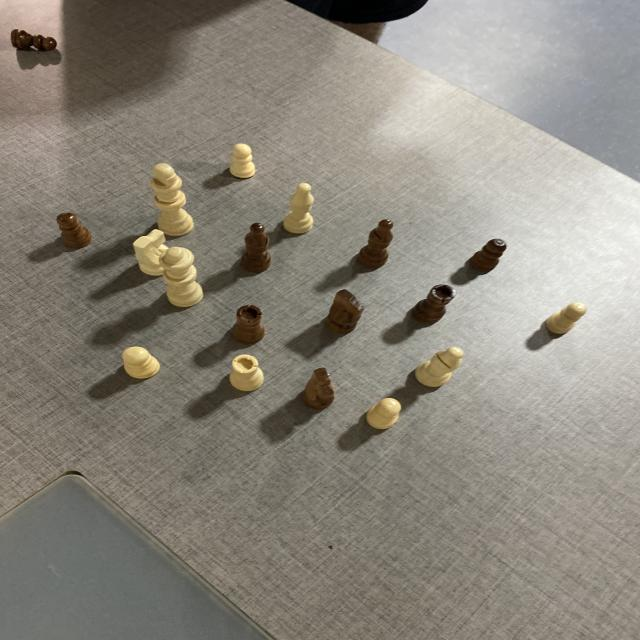Black-Bishop: (358, 219, 394, 270), (241, 222, 272, 273)
Black-Knight: (322, 289, 366, 334), (301, 366, 338, 411)
Black-Pawn: (55, 211, 92, 250), (468, 238, 508, 273)
Black-Rook: (230, 303, 268, 344), (414, 284, 455, 322)
White-Bishop: (413, 346, 466, 388), (282, 182, 318, 234)
White-King: (150, 162, 195, 238)
White-Knight: (133, 228, 170, 278)
White-Pawn: (544, 301, 590, 335), (121, 346, 161, 380), (366, 397, 404, 431), (227, 142, 258, 179)
White-Queen: (158, 247, 202, 308)
White-Rook: (227, 353, 266, 392)
